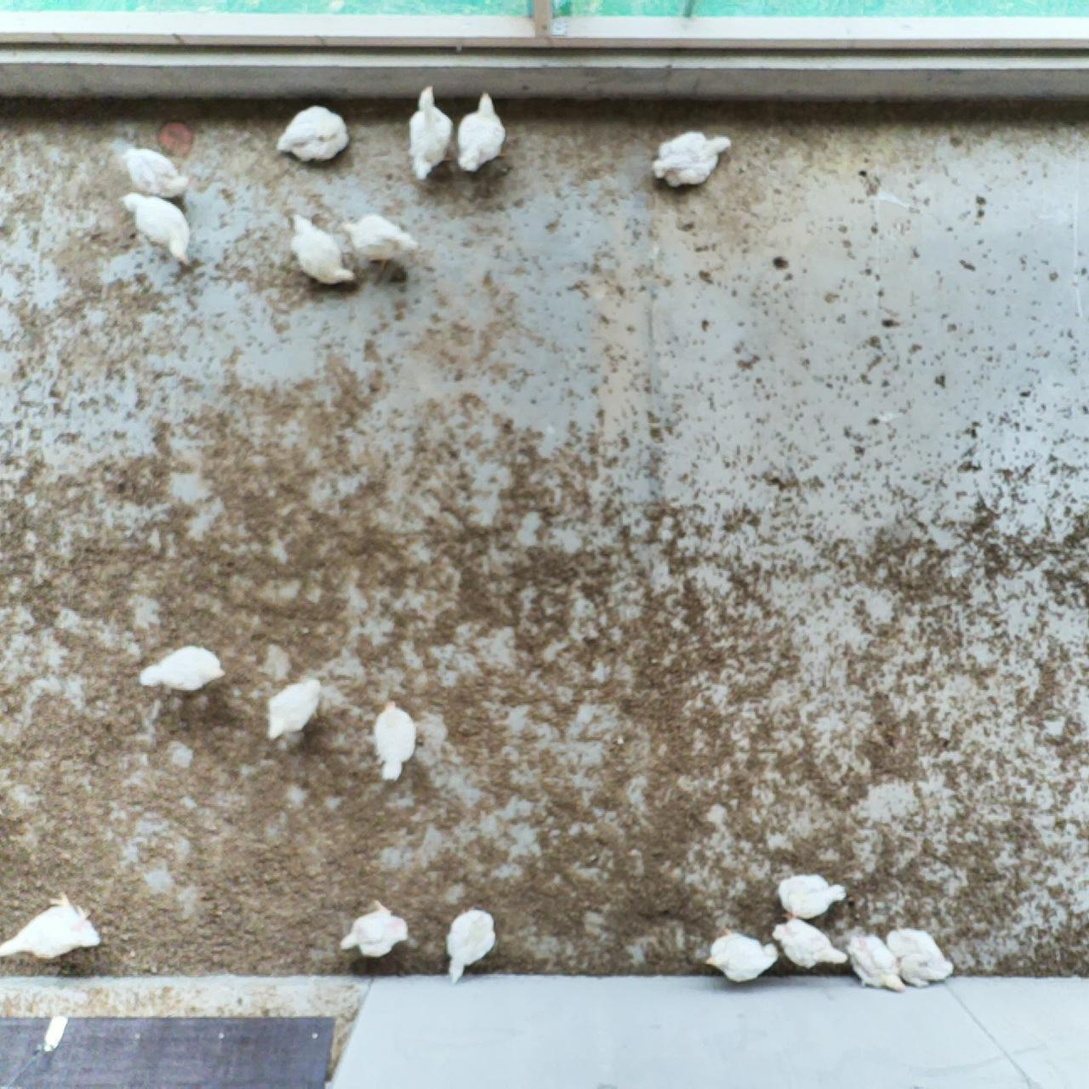chicken: (3, 892, 99, 960), (289, 214, 356, 286), (121, 196, 191, 262), (652, 131, 730, 187), (410, 87, 453, 182), (340, 900, 410, 958), (704, 931, 779, 984), (281, 105, 349, 163), (456, 94, 505, 172), (138, 647, 223, 691), (842, 931, 902, 992), (888, 931, 953, 987), (776, 921, 847, 972), (448, 909, 495, 984), (121, 146, 191, 196), (347, 214, 417, 264), (267, 679, 322, 737), (378, 701, 415, 783), (778, 875, 846, 917)
